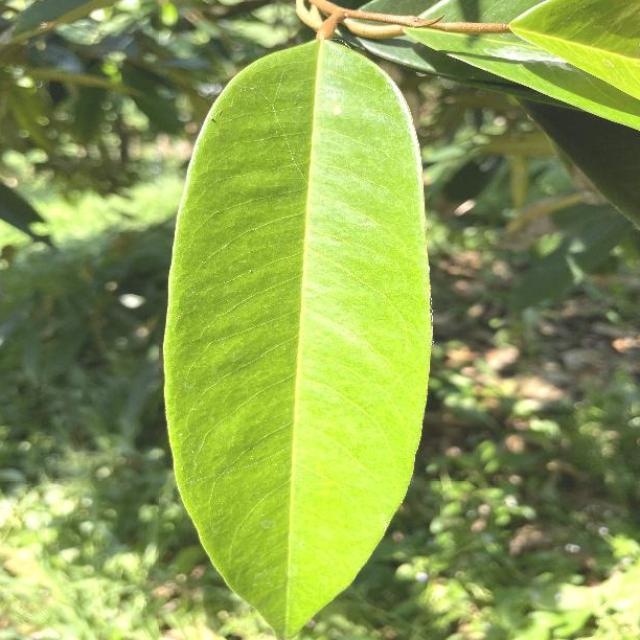No Disease: (152, 30, 438, 640)
